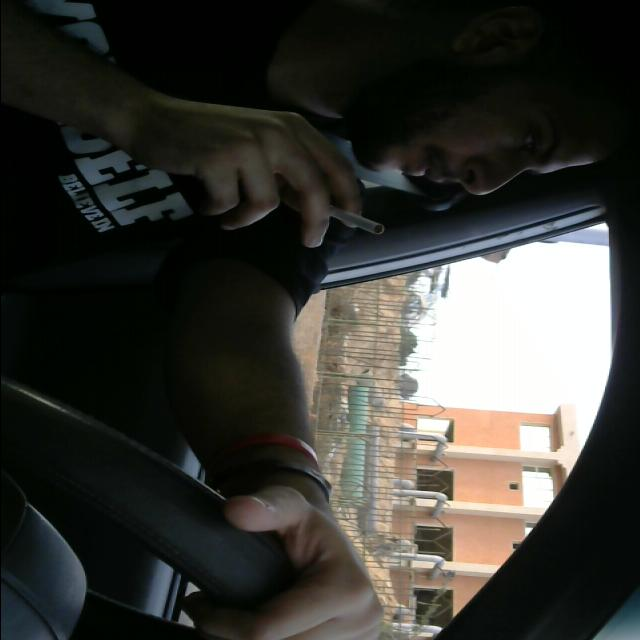smoking: (271, 193, 384, 238)
